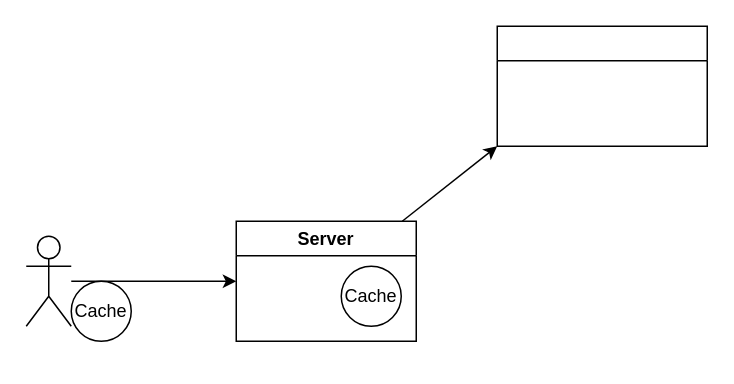
The diagram is 734 pixels wide and 384 high, and some of its shapes have lost their labels. The centre of each missing label's shape, as x and y in pixels:
"Client" belongs at (48,280).
"Serveur Tiers" belongs at (601,85).
